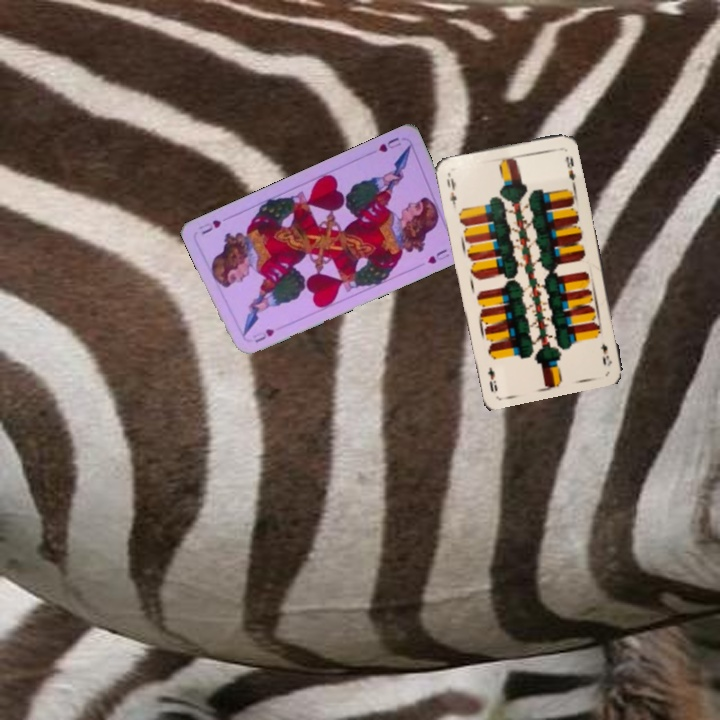E9: (443, 174, 459, 210), (597, 339, 614, 369)
HU: (375, 133, 403, 155), (249, 325, 277, 345)
